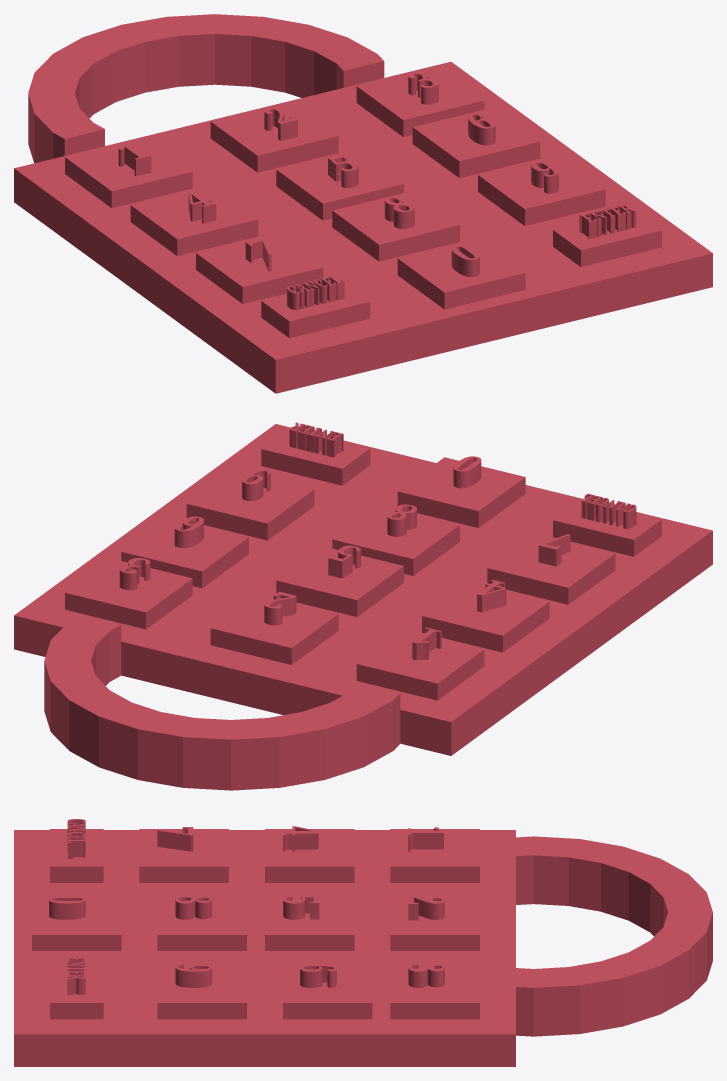
Rendered from lock.glb.
3 views of the same model, one above another, from view 1: azimuth 30°, elevation 25°; view 2: azimuth 150°, elevation 25°; view 3: azimuth 270°, elevation 25° (orthographic). The views are drawn at different scales.
Visible parts, largest first — view 1: Mesh_Mesh_head_geo.001_lambert2SG.001; view 2: Mesh_Mesh_head_geo.001_lambert2SG.001; view 3: Mesh_Mesh_head_geo.001_lambert2SG.001.
Part boxes in pixels (bbox=[...]): Mesh_Mesh_head_geo.001_lambert2SG.001: bbox=[14, 14, 712, 393]; Mesh_Mesh_head_geo.001_lambert2SG.001: bbox=[14, 422, 712, 790]; Mesh_Mesh_head_geo.001_lambert2SG.001: bbox=[14, 819, 712, 1066].
Size of the model in its own units: 27 by 4 by 39.
